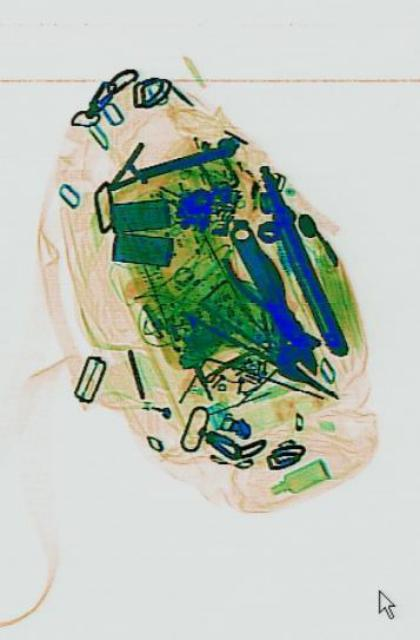Pliers: (188, 296, 340, 406), (216, 223, 309, 355)
Wrench: (217, 205, 320, 398)
